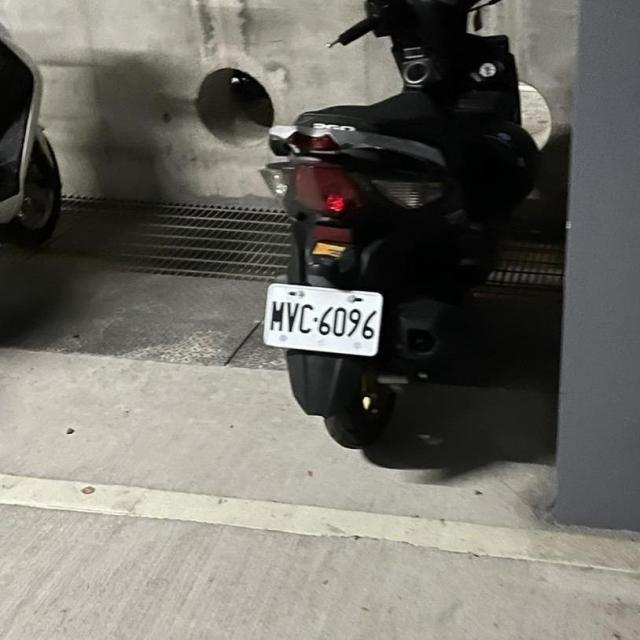W: (244, 269, 390, 366)
